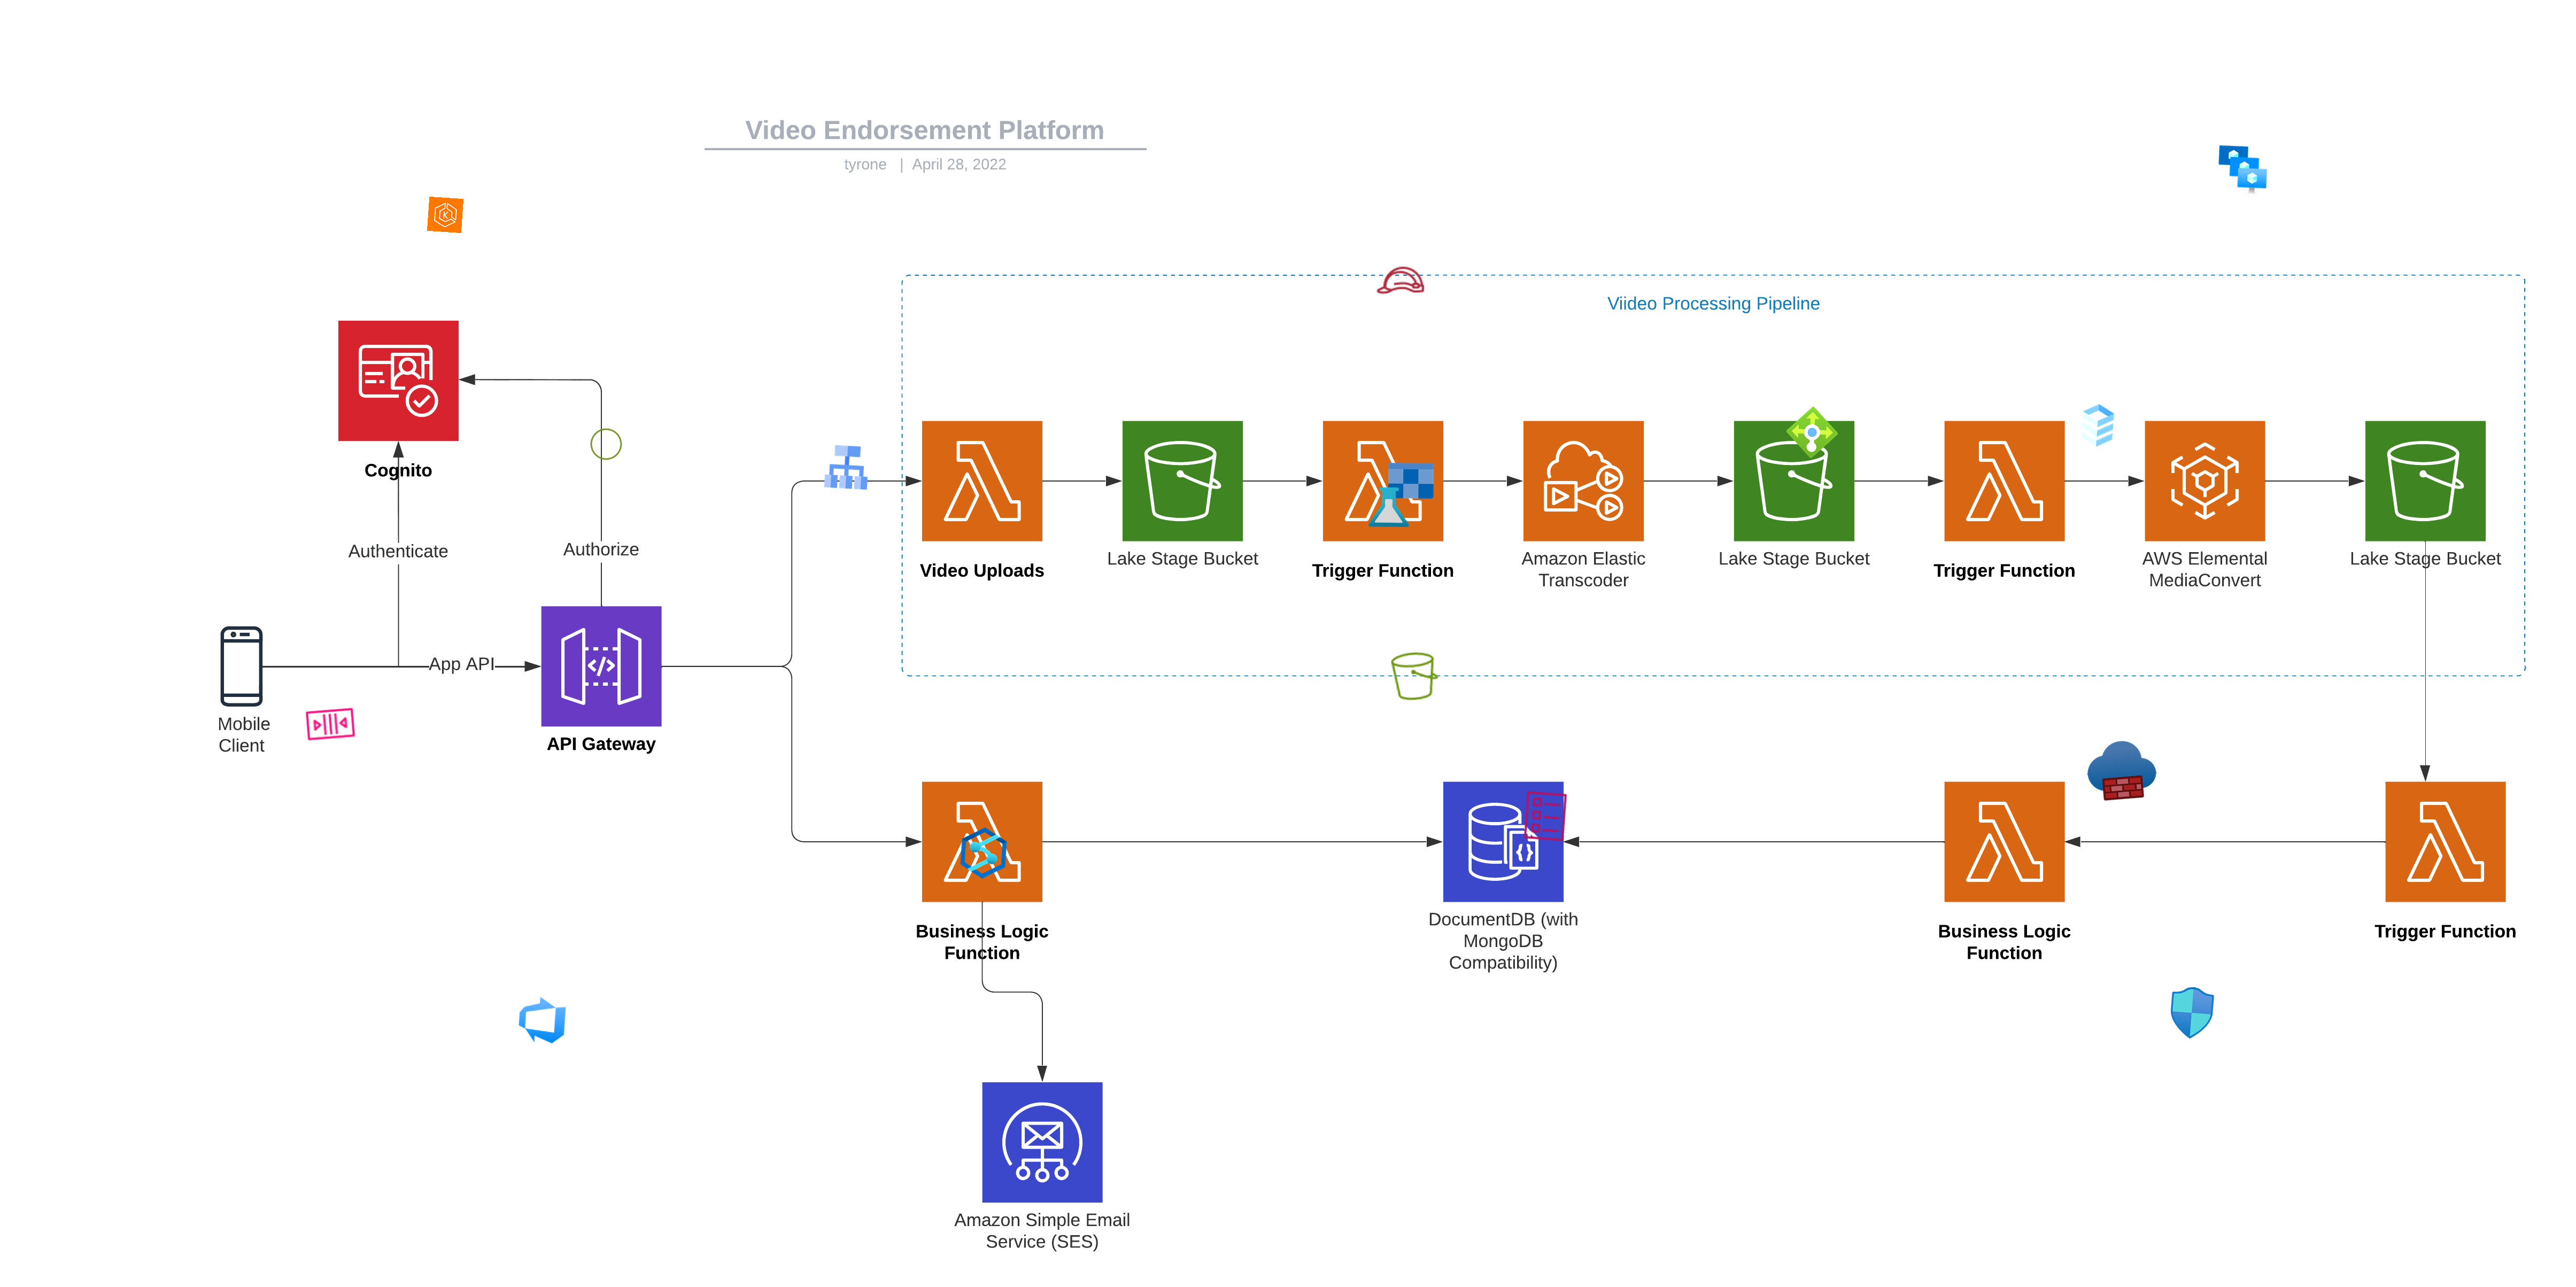aws_amazon_elastic_kubernetes_service: (427, 195, 463, 233)
aws_cloudformation_template: (1516, 788, 1572, 844)
aws_identity_access_management_role: (1375, 254, 1426, 307)
aws_simple_queue_service_queue: (302, 696, 358, 752)
aws_simple_storage_service_bucket: (1387, 648, 1442, 704)
aws_simple_storage_service_object: (588, 425, 624, 463)
azure_devops: (514, 992, 570, 1047)
azure_firewalls: (2085, 732, 2159, 808)
azure_load_balancers: (1784, 405, 1840, 460)
azure_machine_learning_studio_workspaces: (1367, 460, 1436, 530)
azure_network_security_groups: (2164, 985, 2220, 1041)
azure_synapse_analytics: (956, 826, 1010, 880)
azure_vm_scale_sets: (2215, 143, 2269, 195)
gcp_cloud_load_balancing: (820, 440, 874, 494)
gcp_cloud_sql: (2070, 397, 2126, 453)
